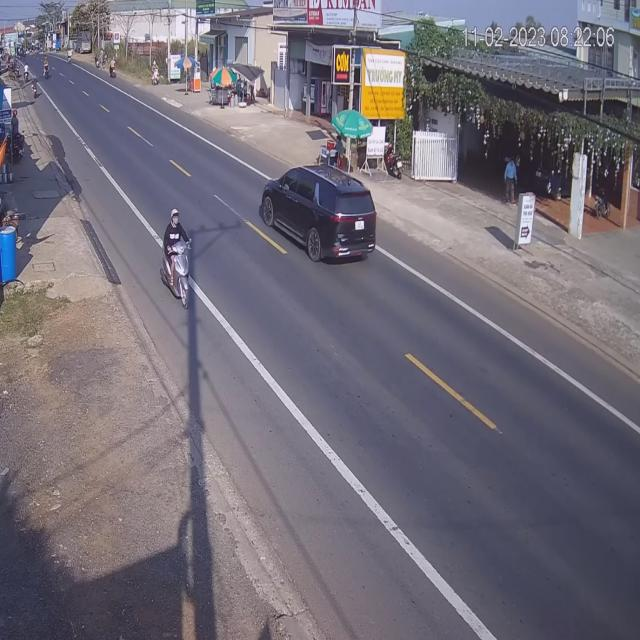car: (260, 165, 380, 268)
motorbike: (159, 208, 194, 306)
